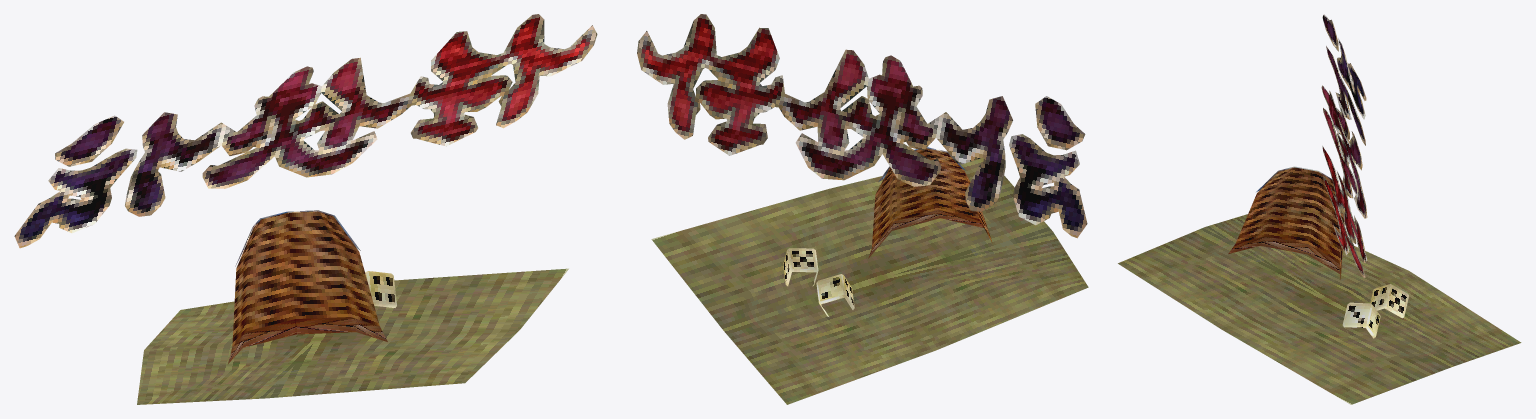
The model's file is ps2_save-icons_ninkyoudentoseininichidaiki.glb.
3 views of the same model, side by side, from view 1: azimuth 30°, elevation 25°; view 2: azimuth 150°, elevation 25°; view 3: azimuth 270°, elevation 25° (orthographic). The views are drawn at different scales.
Visible parts, largest first — view 1: fuun.ico; view 2: fuun.ico; view 3: fuun.ico.
Part boxes in pixels (box(x1,y1,x2,y2)): fuun.ico: box(14, 14, 597, 404); fuun.ico: box(637, 14, 1088, 404); fuun.ico: box(1118, 14, 1521, 404).
Size of the model in its own units: 4.92 by 2.77 by 3.95.
Materials: 1 (1 with a texture image).
